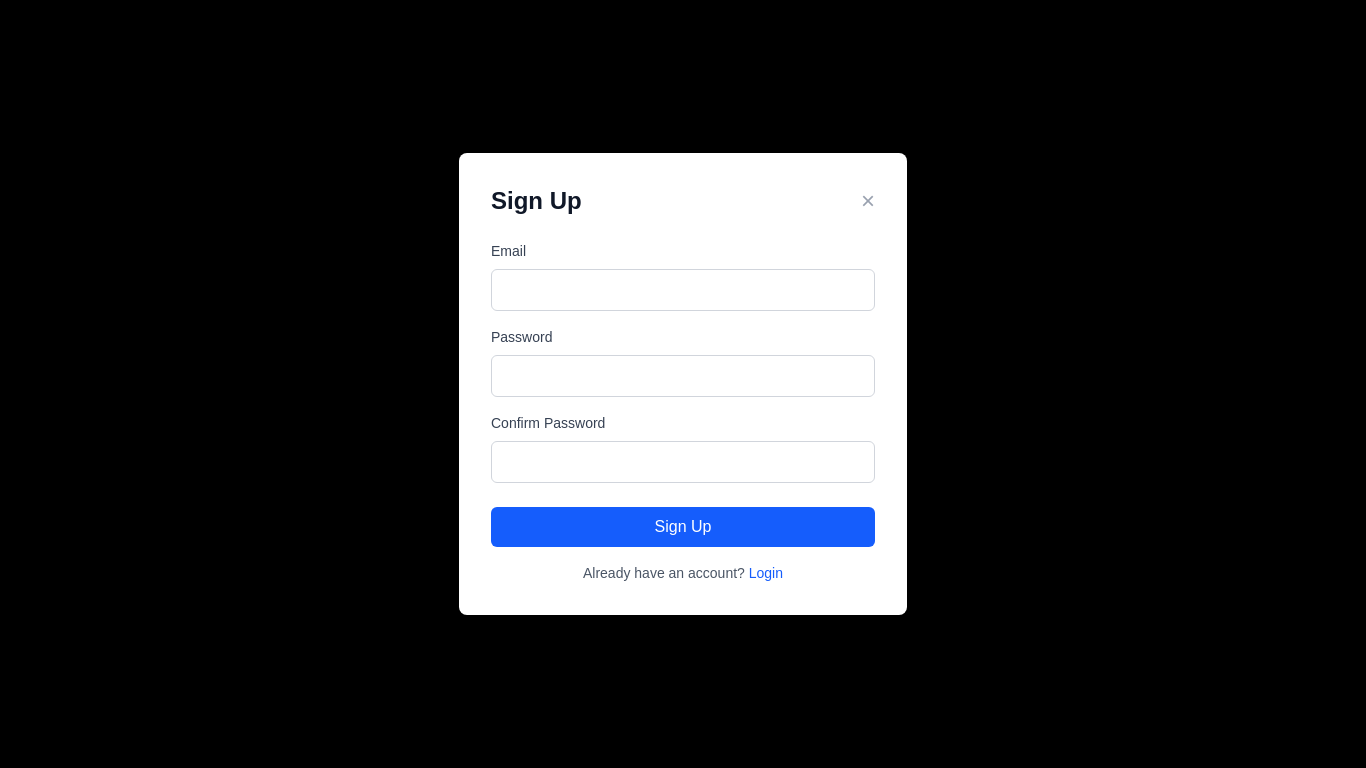
Test: SignupModal › shows a validation error when the password is too short
The image size is (1366, 768).
Bypass the input's own minLength by typing a matching short password in both fields.
Type "new@example.com" into the field labelled "Email" at (683,290), box [491,269,875,311]
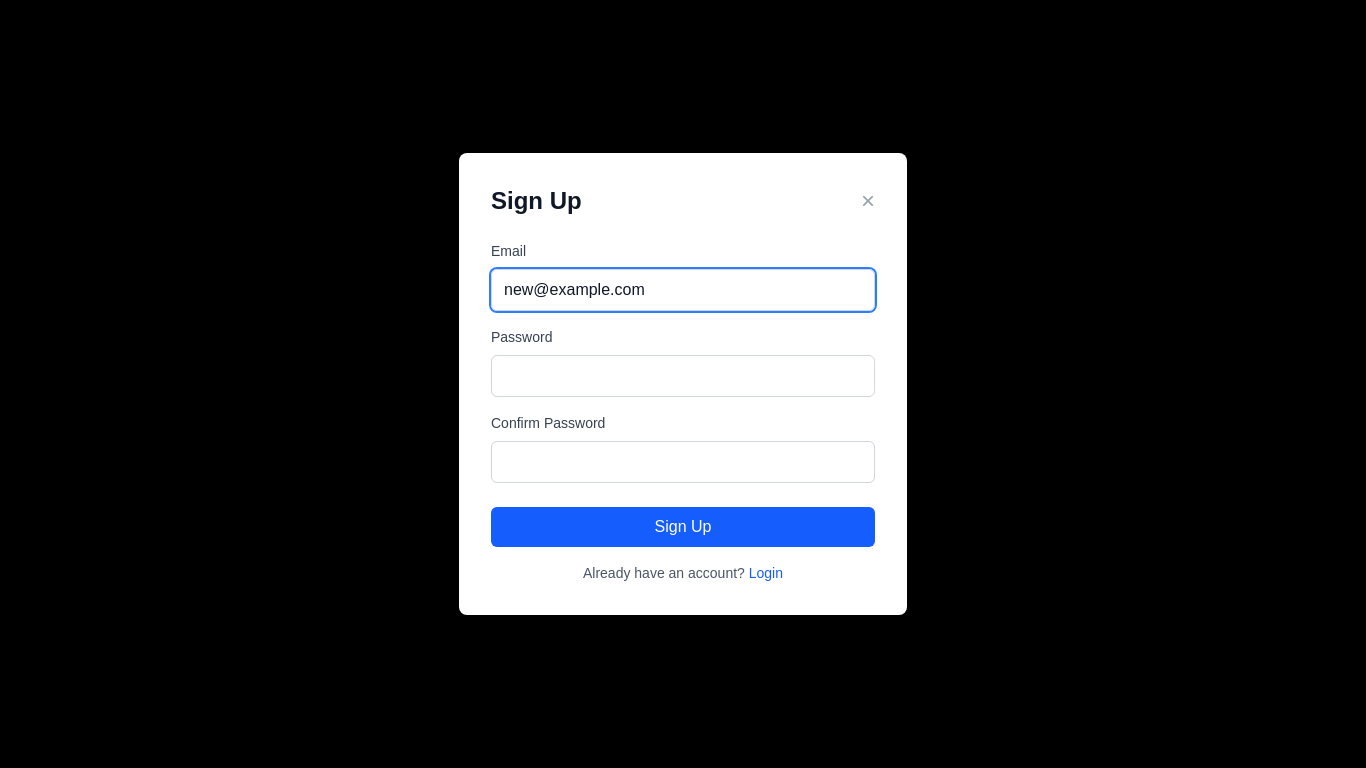
Type "123" into the password field labelled "Password" at (683,376), box [491,355,875,397]
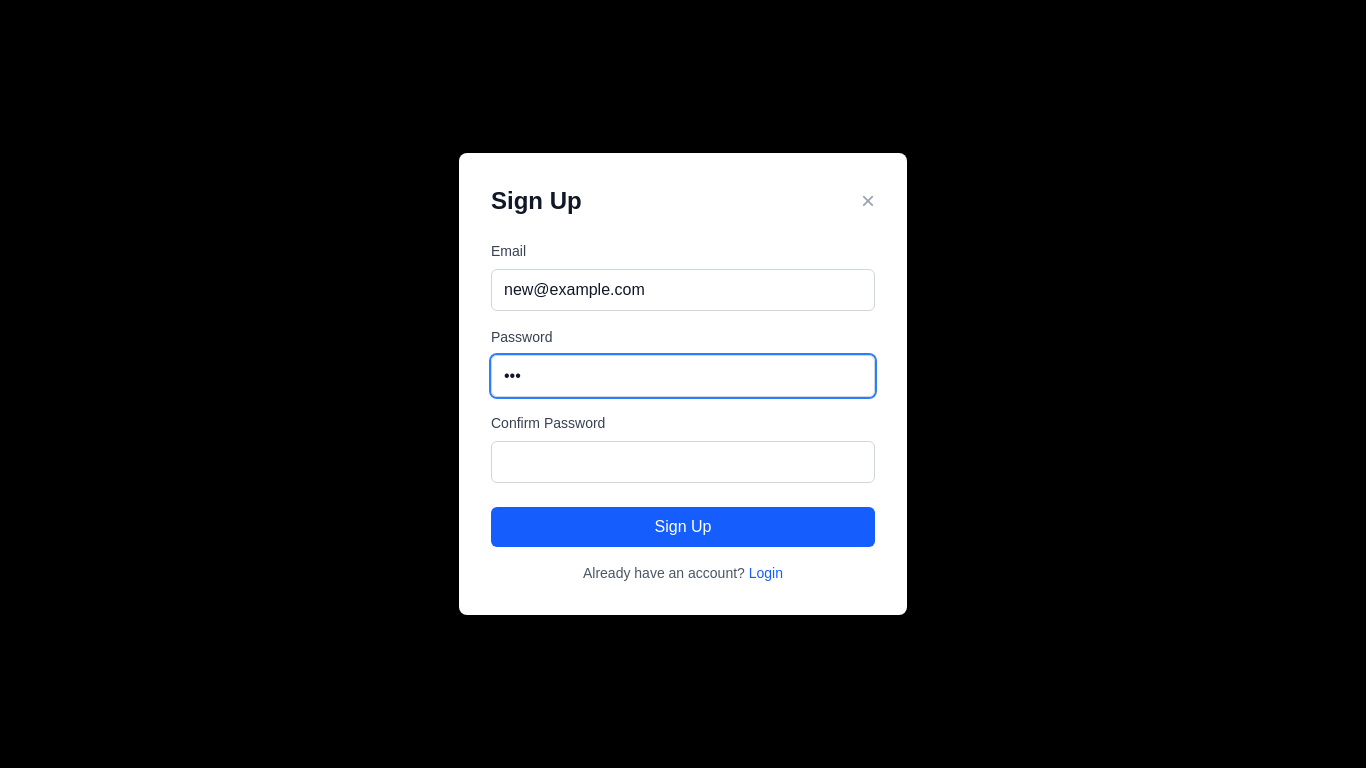
Type "123" into the password field labelled "Confirm Password" at (683,462), box [491,441,875,483]
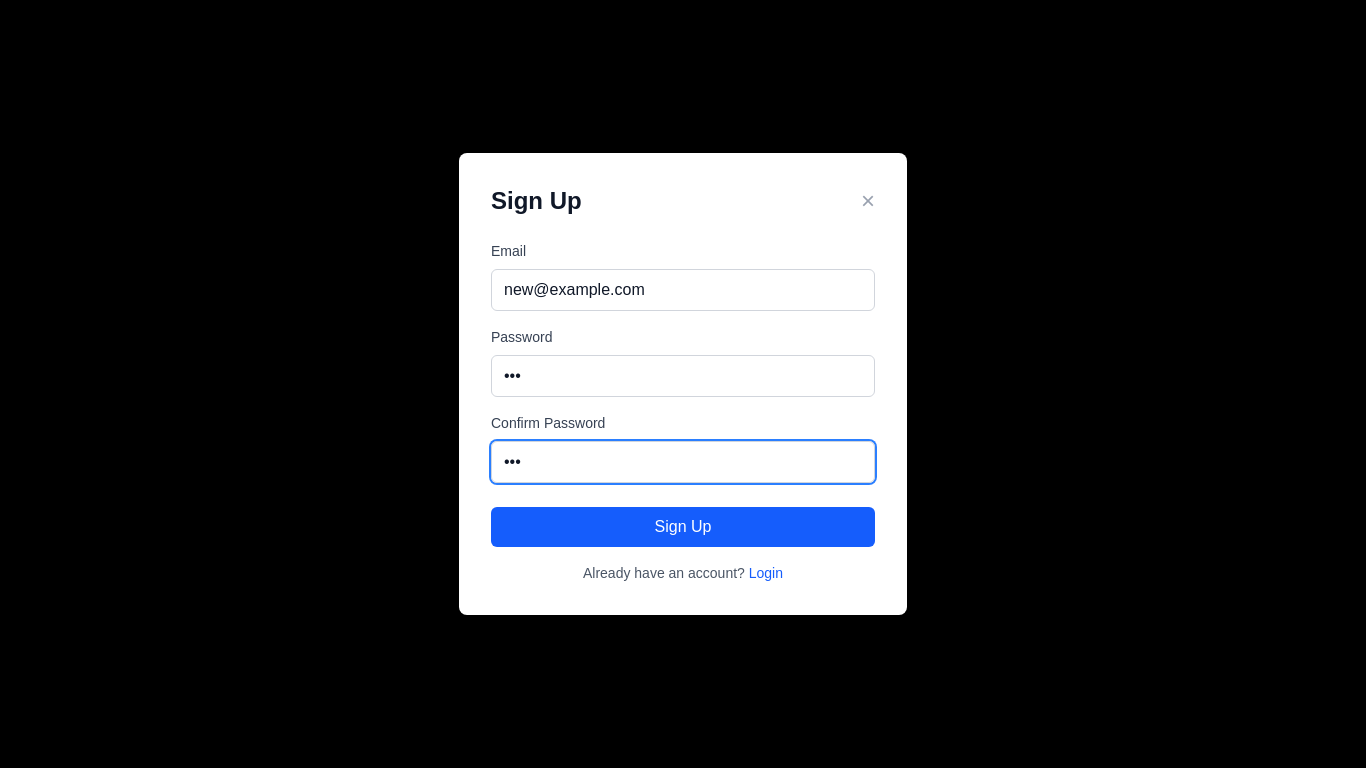
Click the button "Sign Up" at (683,527), box [491,507,875,547]
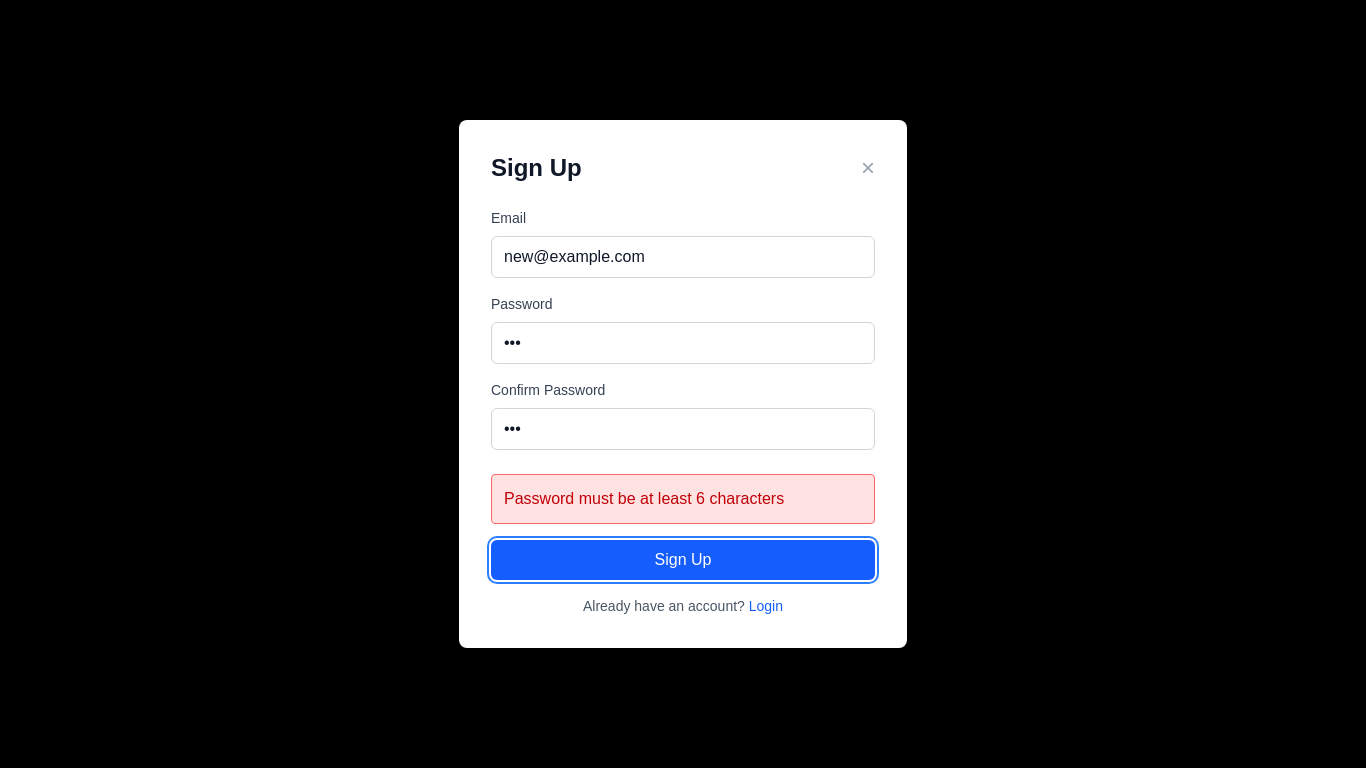
Now the text "Password must be at least 6 characters" is shown, box [491,474,875,524]
